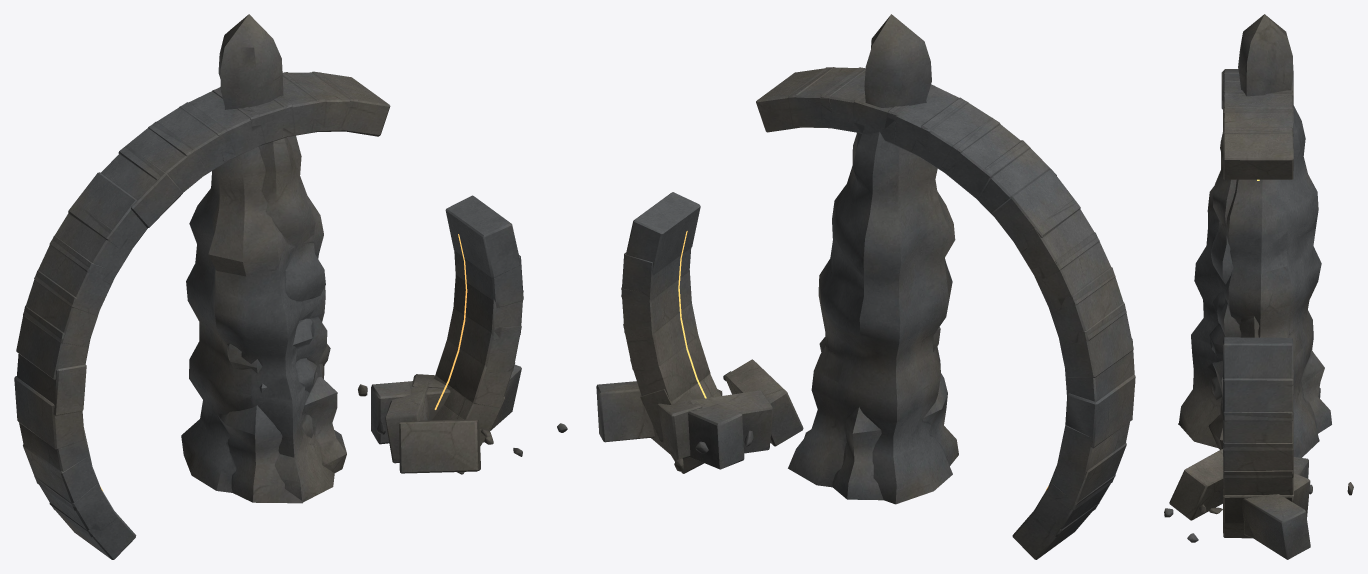
The model's file is severance_kit.glb.
The picture shows the model from 3 angles, left to right: view 1: azimuth 30°, elevation 25°; view 2: azimuth 150°, elevation 25°; view 3: azimuth 270°, elevation 25°; orthographic projection. The views are drawn at different scales.
Parts seen in each view (by area): view 1: Ring_Colossal, Spire_C, Spire_B, Spire_A; view 2: Ring_Colossal, Spire_C, Spire_B; view 3: Ring_Colossal, Spire_C, Spire_B, Spire_A.
Part boxes in pixels (x1,y1,x2,y2): Ring_Colossal: [14, 71, 567, 559]; Spire_C: [181, 14, 334, 501]; Spire_B: [198, 137, 346, 503]; Spire_A: [259, 318, 330, 437]; Ring_Colossal: [596, 67, 1135, 559]; Spire_C: [788, 14, 955, 504]; Spire_B: [804, 327, 958, 500]; Ring_Colossal: [1164, 69, 1353, 559]; Spire_C: [1179, 14, 1321, 457]; Spire_B: [1178, 132, 1331, 449]; Spire_A: [1209, 292, 1259, 399].
Bounding box in the file's own units: 36.49 × 34.11 × 13.32.
3 materials, 1 textured.
